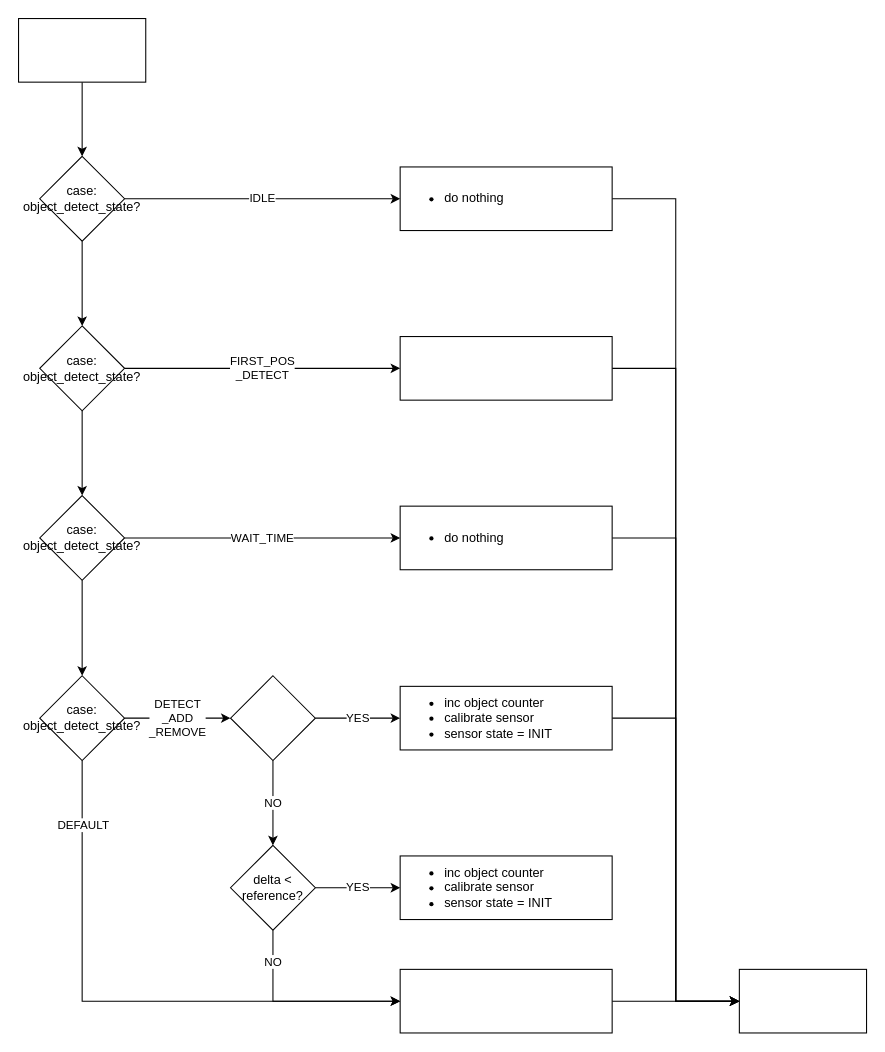
Image size: 885x1052. Some labels were removed from this diagram. Here are the shapes that lost their labels. From the top down, the centre of each, then its label:
point (81, 49): App_ObjectCounter
point (505, 367): start countdown object_detect_state = DETECT_ADD_REMOVE
point (272, 718): delta > reference?
point (505, 1000): object_detect_state = IDLE
point (802, 1000): return
